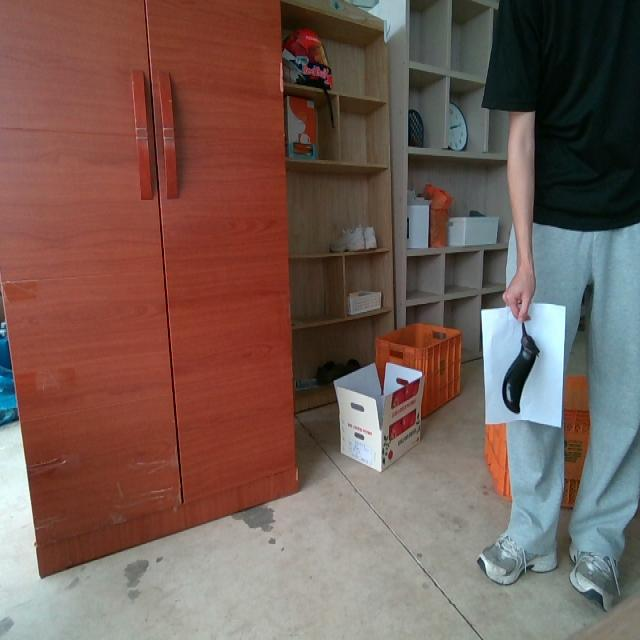Egg plant: (502, 323, 539, 412)
